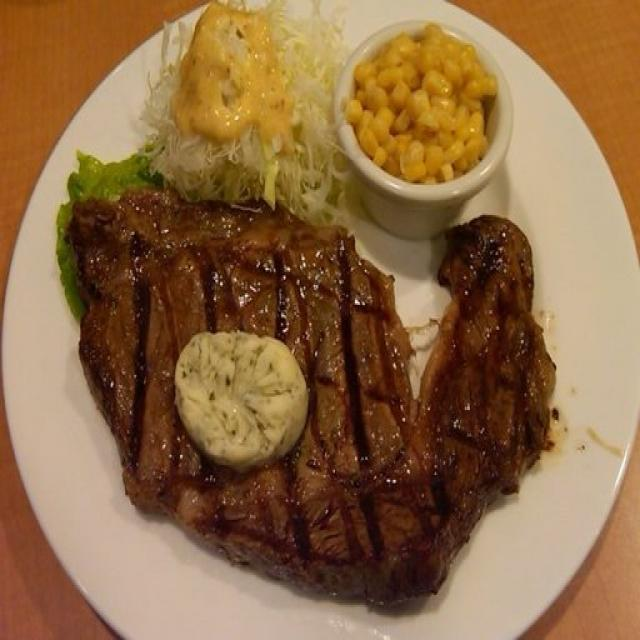Steak: (67, 161, 578, 640)
